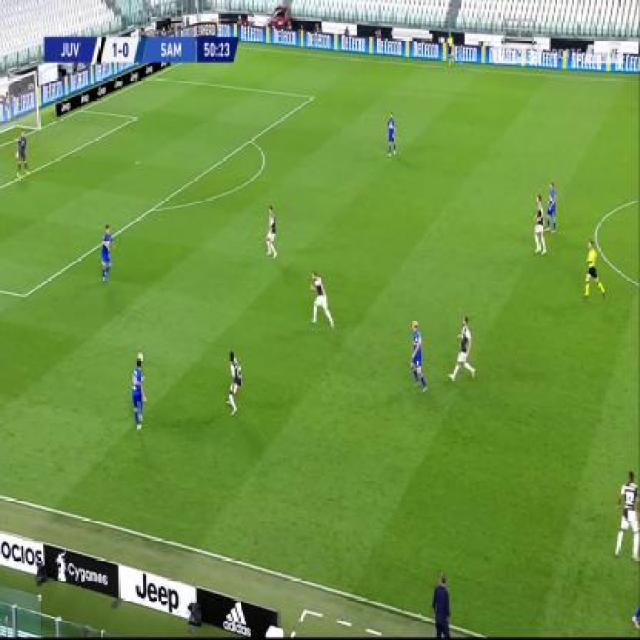ball: (137, 350, 145, 363)
player: (613, 464, 639, 567), (449, 313, 477, 386), (429, 566, 455, 640), (307, 266, 335, 332), (408, 315, 428, 394), (583, 238, 606, 303), (128, 360, 148, 433), (225, 346, 244, 417), (98, 221, 117, 287), (531, 192, 547, 257), (629, 468, 640, 561), (263, 203, 280, 262), (14, 126, 30, 180), (545, 178, 558, 234), (385, 110, 398, 158), (445, 31, 456, 67)
